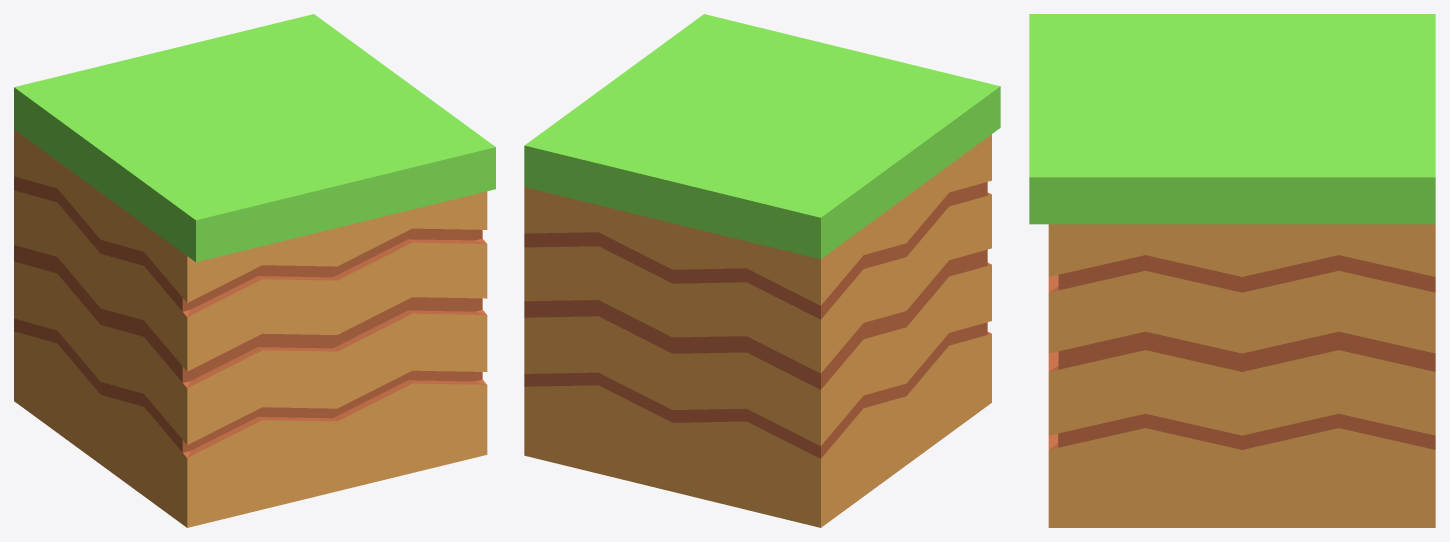
The model's file is grass_tile5.fbx.
3 renders of one model, left to right at view 1: azimuth 30°, elevation 25°; view 2: azimuth 150°, elevation 25°; view 3: azimuth 270°, elevation 25°, orthographic. The views are drawn at different scales.
Visible parts, largest first — view 1: Mesh; view 2: Mesh; view 3: Mesh.
Boxes of the visible parts, box(x1,y1,x2,y2) form: Mesh: box(14, 14, 495, 527); Mesh: box(524, 14, 1000, 527); Mesh: box(1029, 14, 1435, 527).
Size of the model in its own units: 1 by 1 by 1.05.
